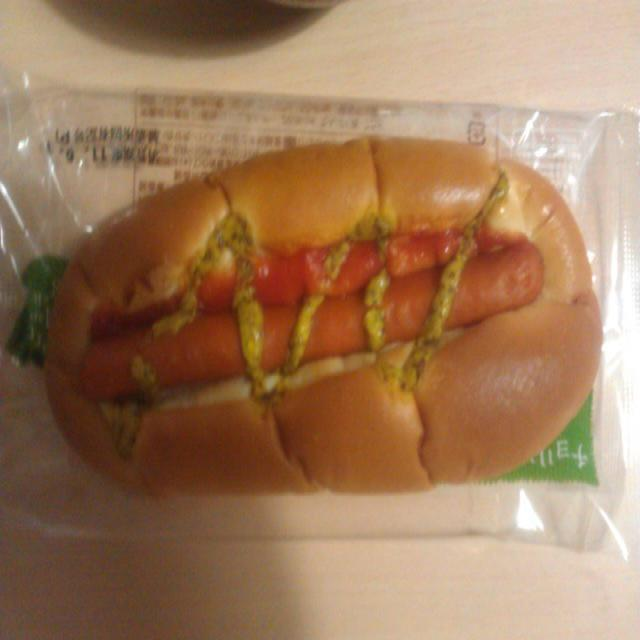Hot Dog: (40, 146, 613, 512)
